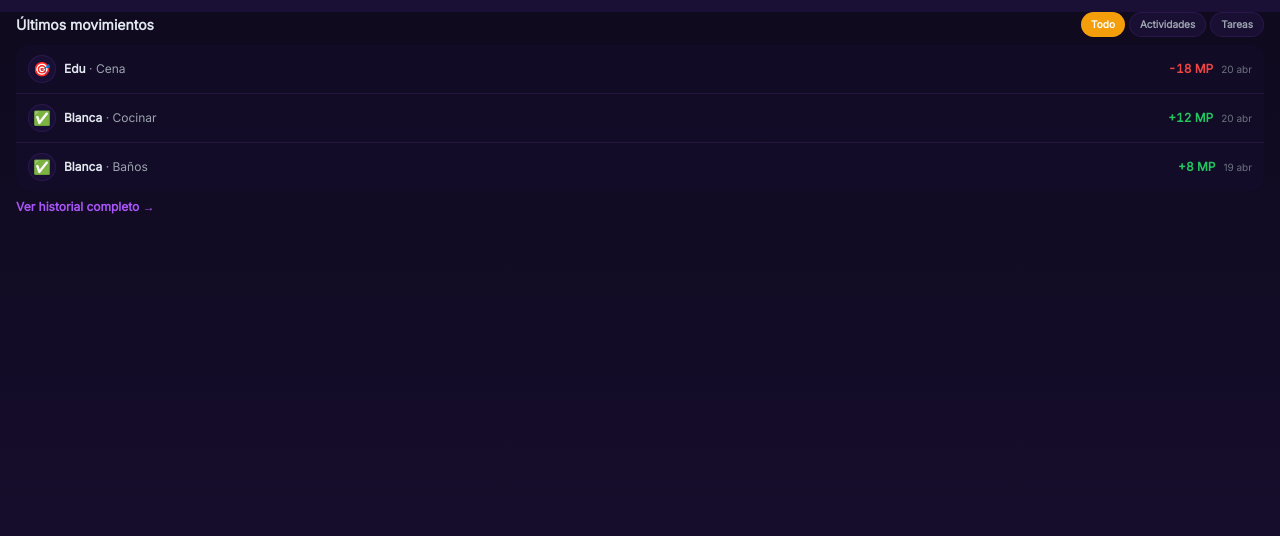
Test: RecentMovementsTabs › filters by Tasks tab
Click the button "Tareas": click(1237, 24) [1210,12,1264,37]
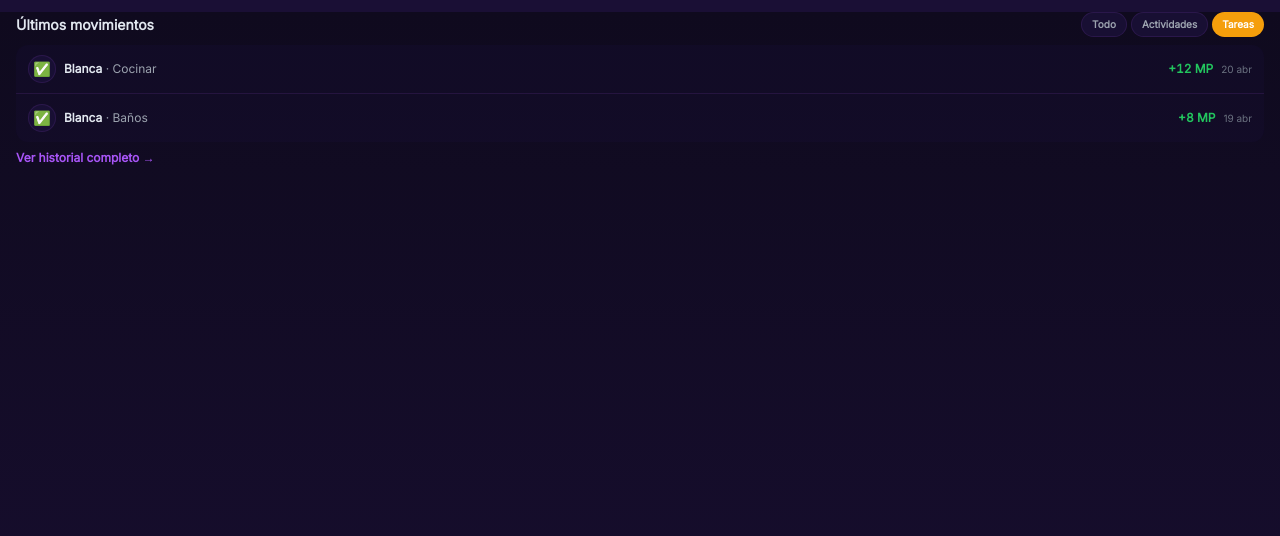
Check: the text "· Cocinar" is shown, box [102,61,157,76]
Check: the button "Cena" is gone
